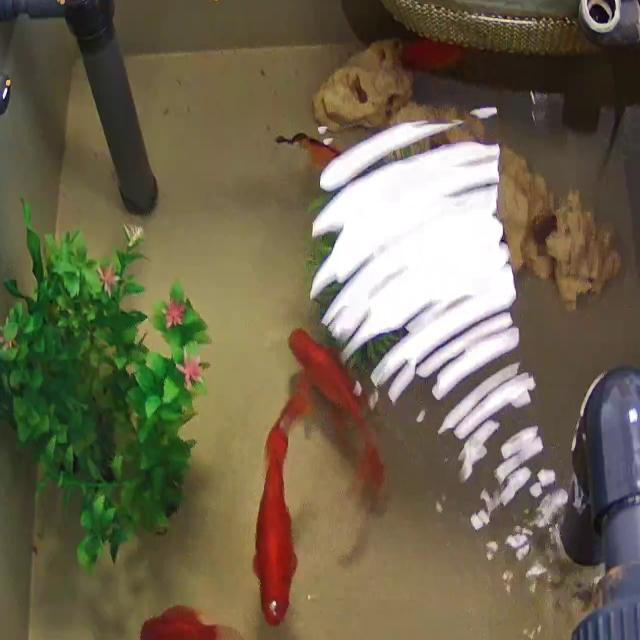fish: (293, 326, 402, 503), (253, 415, 299, 627), (136, 602, 251, 640), (286, 130, 338, 175), (402, 38, 466, 72)
